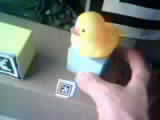duck: (63, 11, 115, 57)
